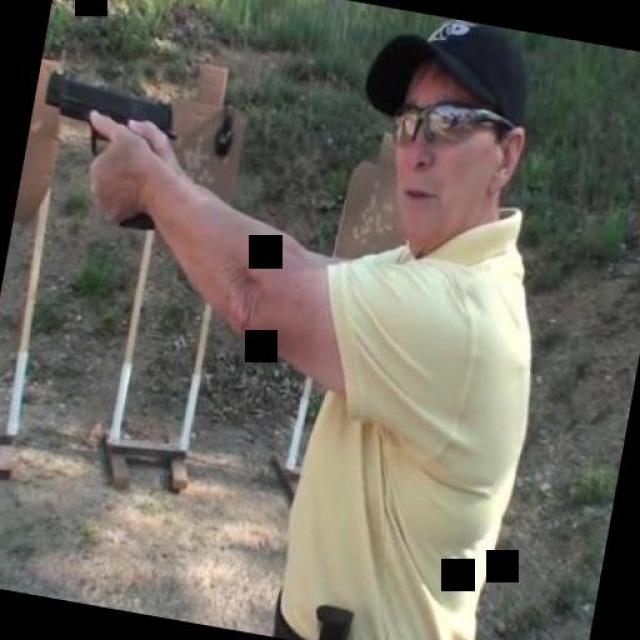gun: (19, 69, 182, 232)
